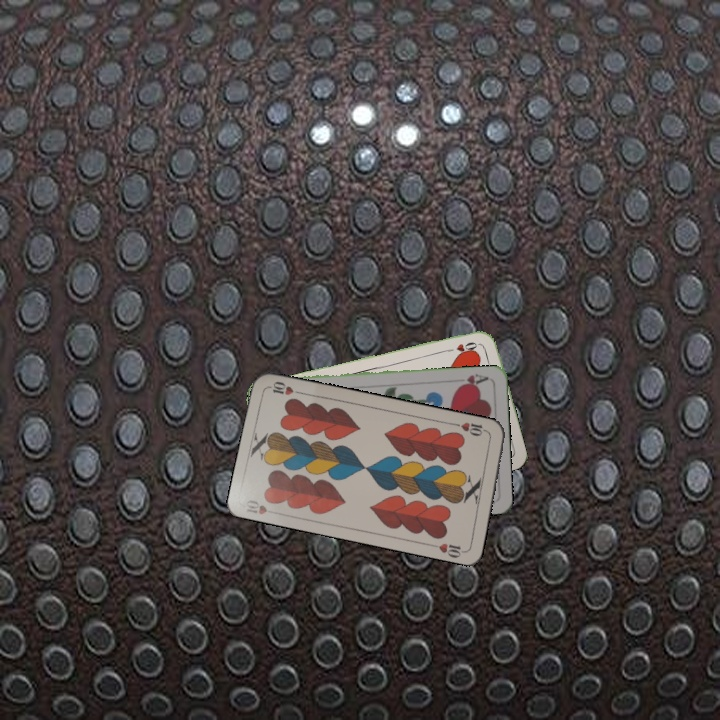H10: (451, 418, 491, 439), (242, 496, 271, 517)
HA: (453, 369, 491, 390)
HO: (442, 338, 482, 355)
